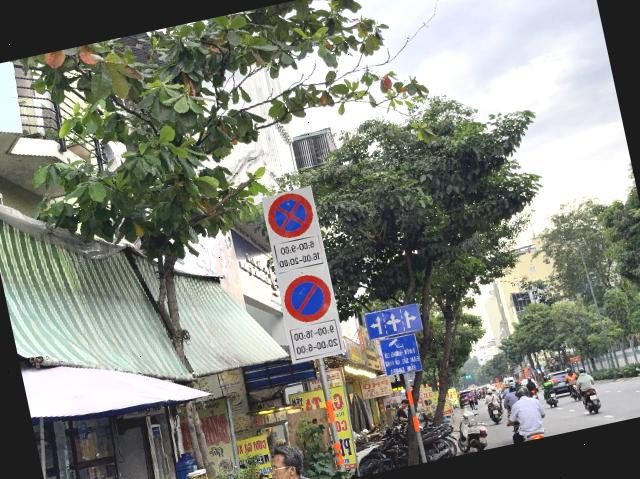cam-do-xe: (280, 270, 334, 326)
cam-dung-va-do-xe: (264, 190, 316, 241)
